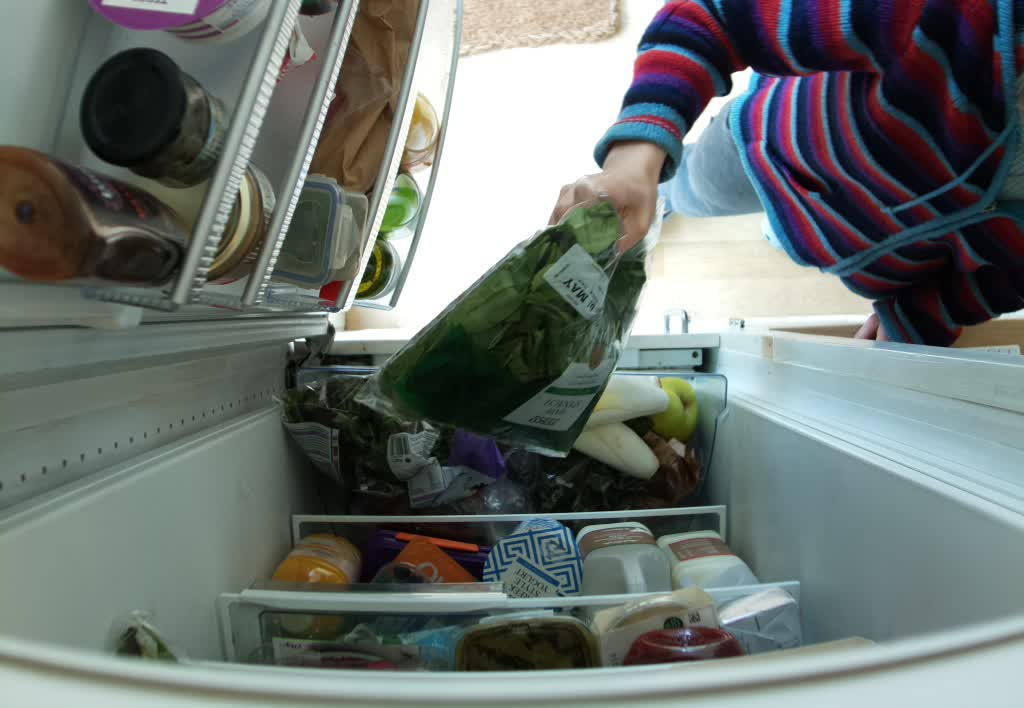salad: (373, 201, 645, 447), (284, 368, 454, 501), (573, 373, 673, 478)
